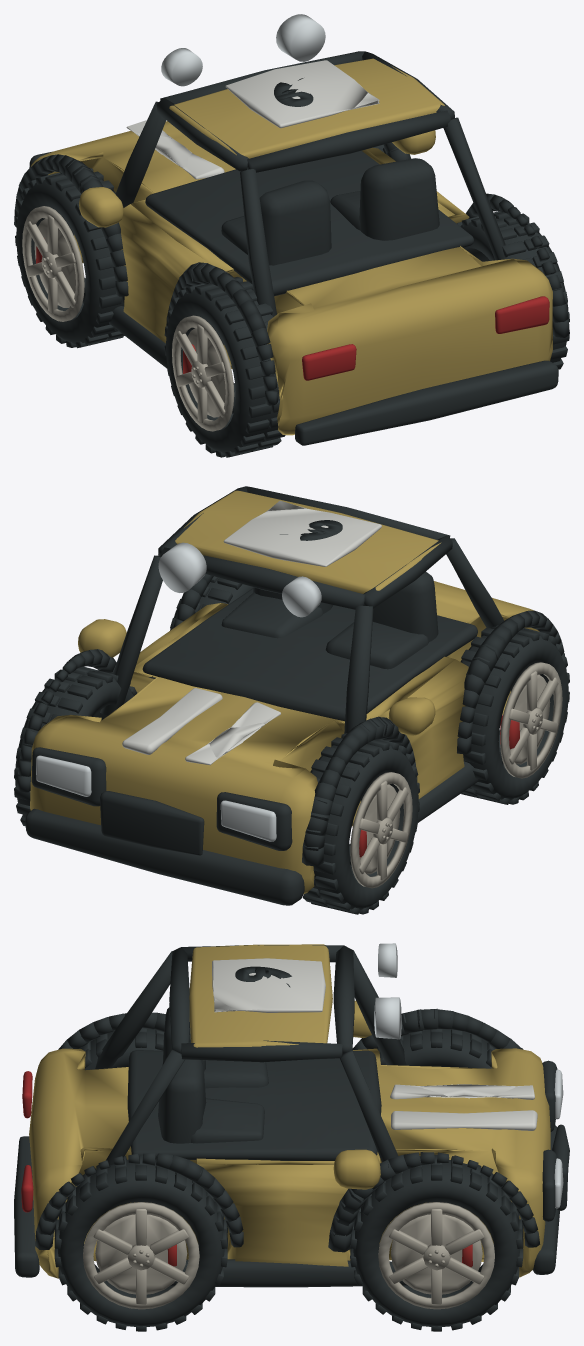
File: car_buggy.glb
3 views of the same model, one above another, from view 1: azimuth 30°, elevation 25°; view 2: azimuth 150°, elevation 25°; view 3: azimuth 270°, elevation 25° (orthographic).
Parts seen in each view (by area): view 1: Body.007, WheelMesh.030, WheelMesh.028, WheelMesh.031; view 2: Body.007, WheelMesh.028, WheelMesh.030, WheelMesh.029, WheelMesh.031; view 3: Body.007, WheelMesh.031, WheelMesh.029, WheelMesh.028, WheelMesh.030.
Part boxes in pixels (x1,y1,x2,y2): Body.007: [14, 14, 569, 445]; WheelMesh.030: [164, 277, 285, 457]; WheelMesh.028: [15, 167, 124, 348]; WheelMesh.031: [456, 211, 569, 369]; Body.007: [17, 486, 566, 905]; WheelMesh.028: [302, 733, 419, 914]; WheelMesh.030: [460, 625, 569, 804]; WheelMesh.029: [14, 666, 137, 826]; WheelMesh.031: [170, 576, 253, 630]; Body.007: [14, 943, 569, 1287]; WheelMesh.031: [54, 1154, 227, 1331]; WheelMesh.029: [350, 1154, 523, 1331]; WheelMesh.028: [377, 1029, 494, 1068]; WheelMesh.030: [80, 1028, 164, 1070].
Bounding box in the file's own units: 2.64 × 2.11 × 3.73.
